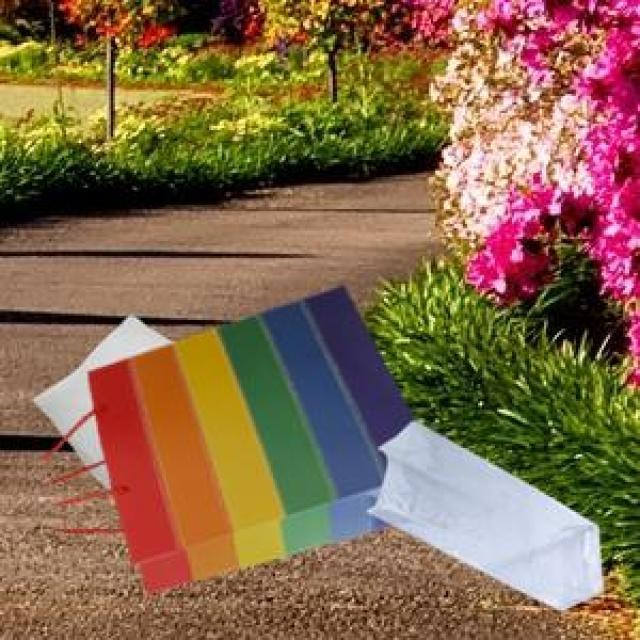paper: (58, 282, 412, 589)
